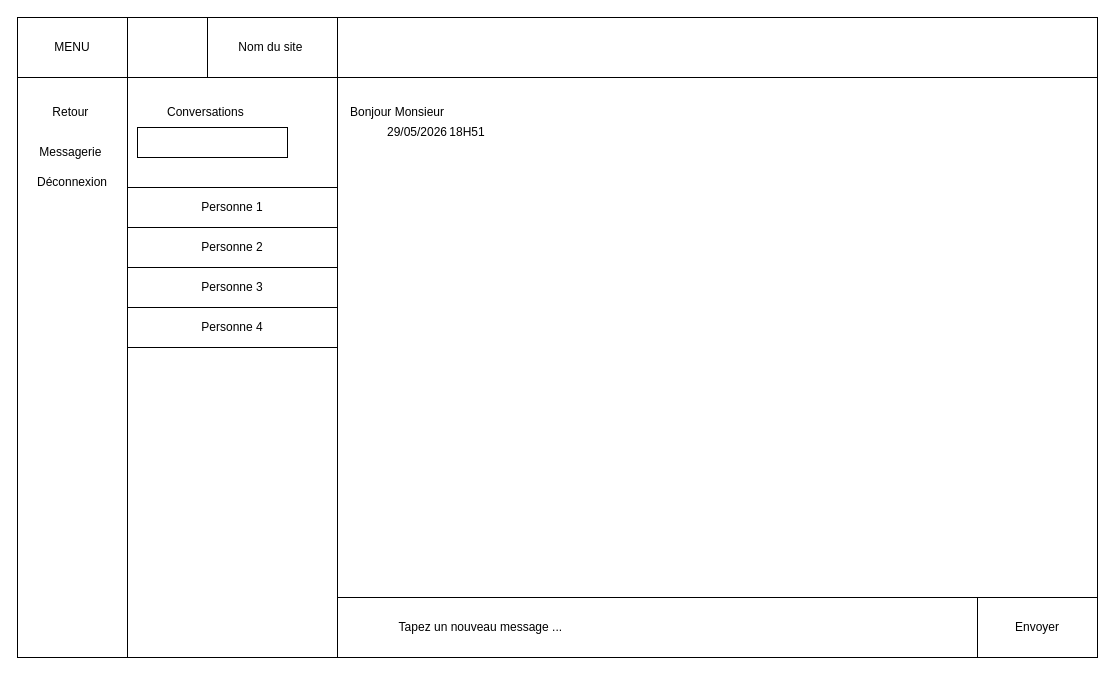
Image size: 1115x675. Some labels were removed from this diagram. The centre of each missing label's shape, as x and y in pixels:
Conversation personne 1: point 717,47
LOGO: point 167,47
Rechercher une personne: point 212,142
